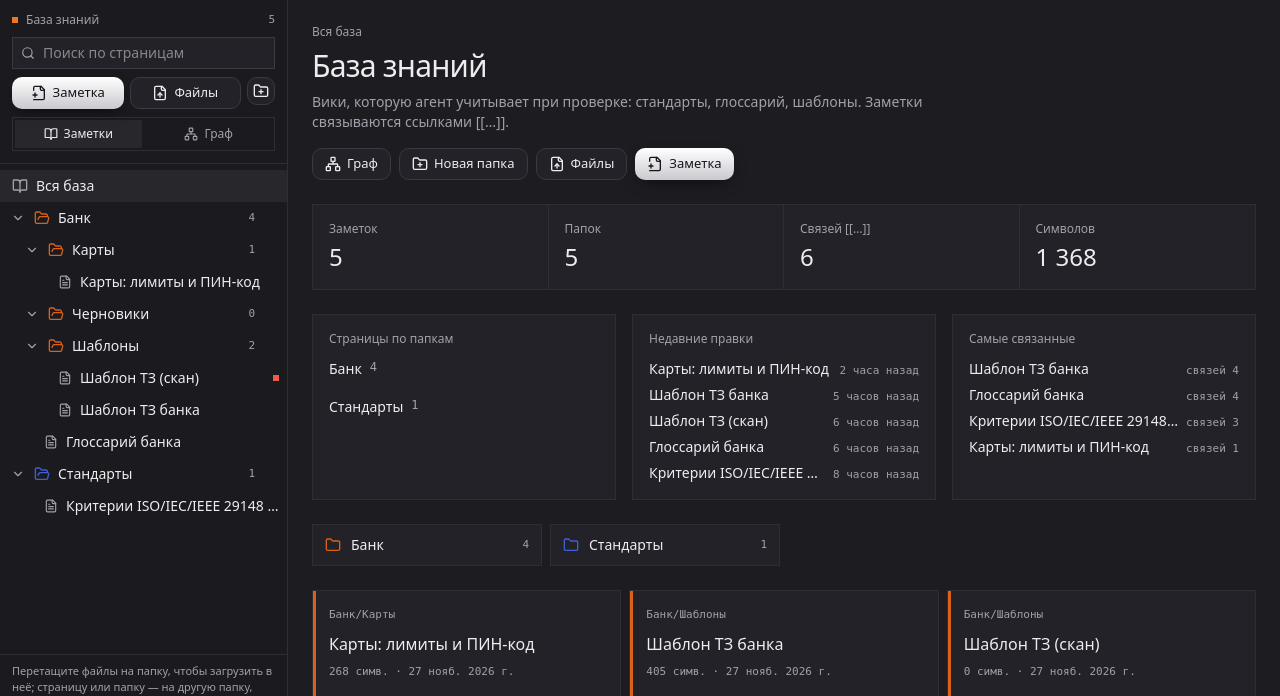
Knowledge wiki › searches page text and shows highlighted snippets
This screenshot has width=1280, height=696.
Type "тиын" into the search field labelled "Поиск по страницам" at (154, 52), box 43,42 -> 266,62
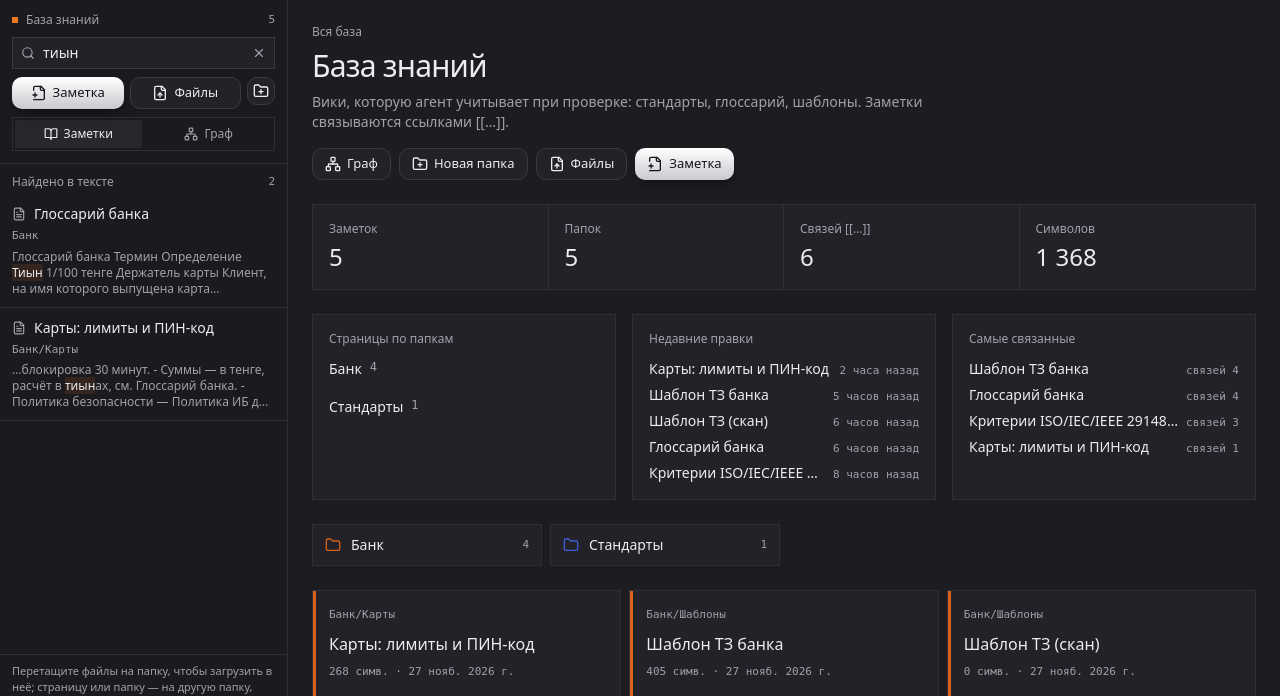
Expected: the text "Тиын" is shown, 12,264 -> 43,280
Click the button "Глоссарий банка" at (144, 251), box 0,194 -> 287,308
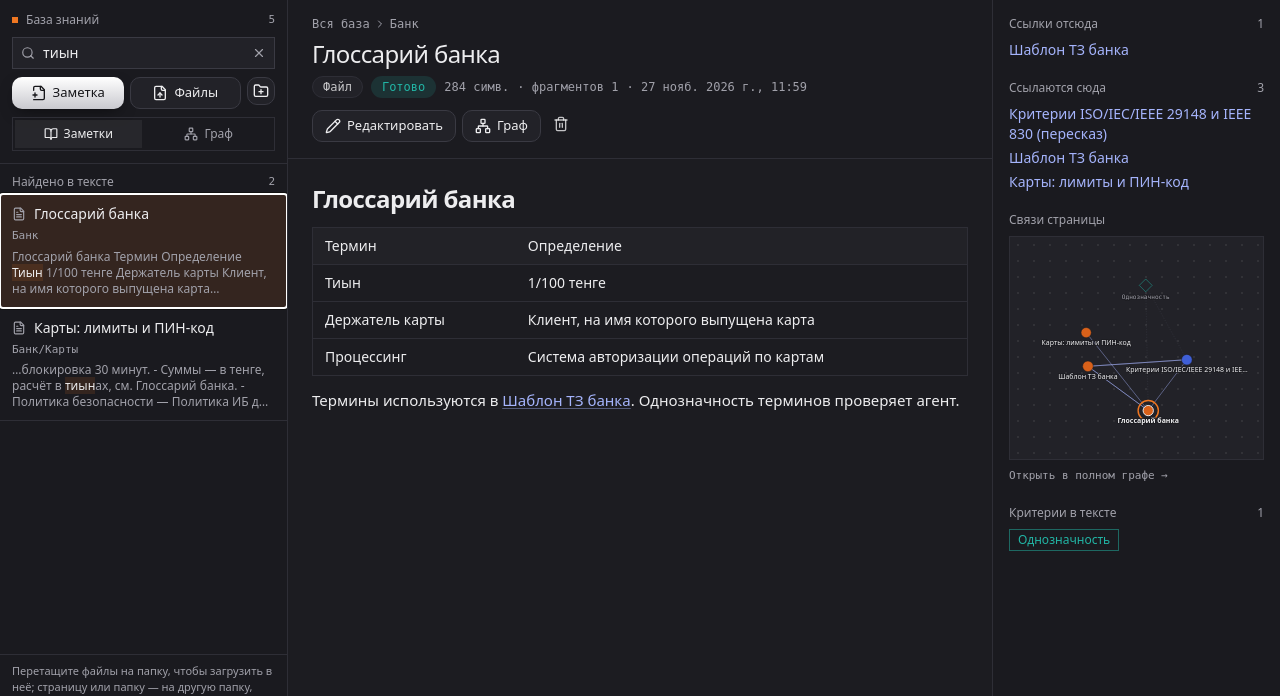
Expected: the 1st heading "Глоссарий банка" is shown, 312,37 -> 500,70
